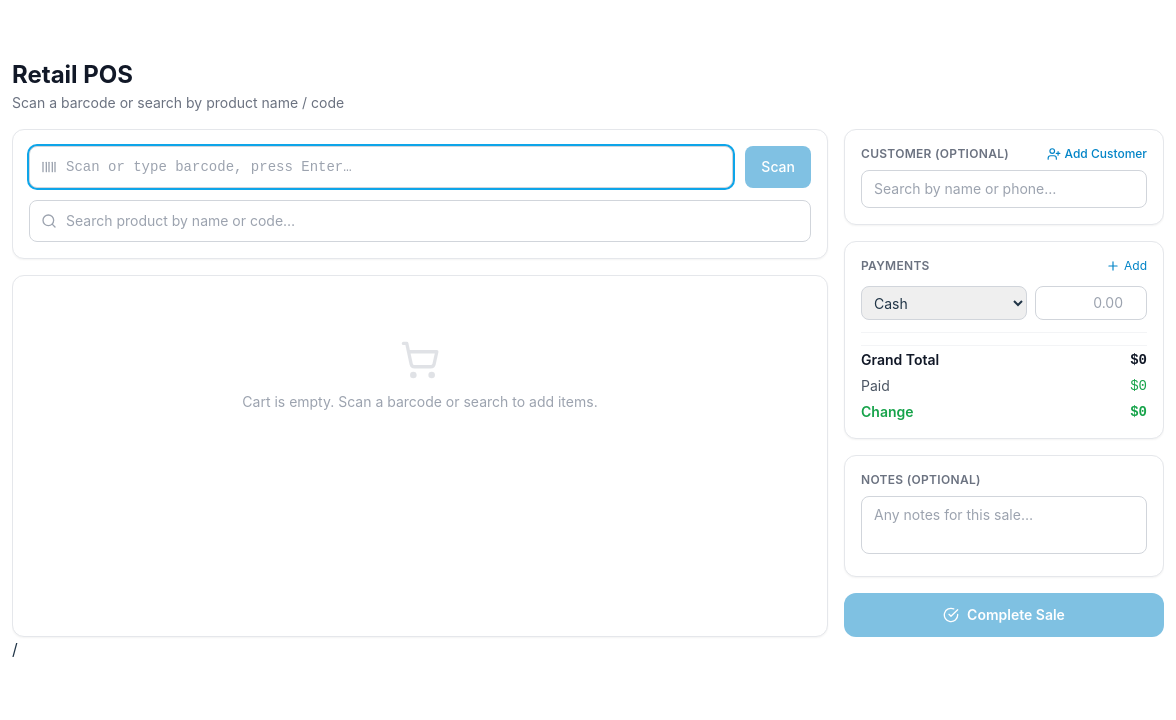
Scenario: Retail POS › requires a customer before leaving a balance due
In the field labelled "barcode": coordinates (381, 167) [29,146,733,188], type "0828156987886"
Then press Enter
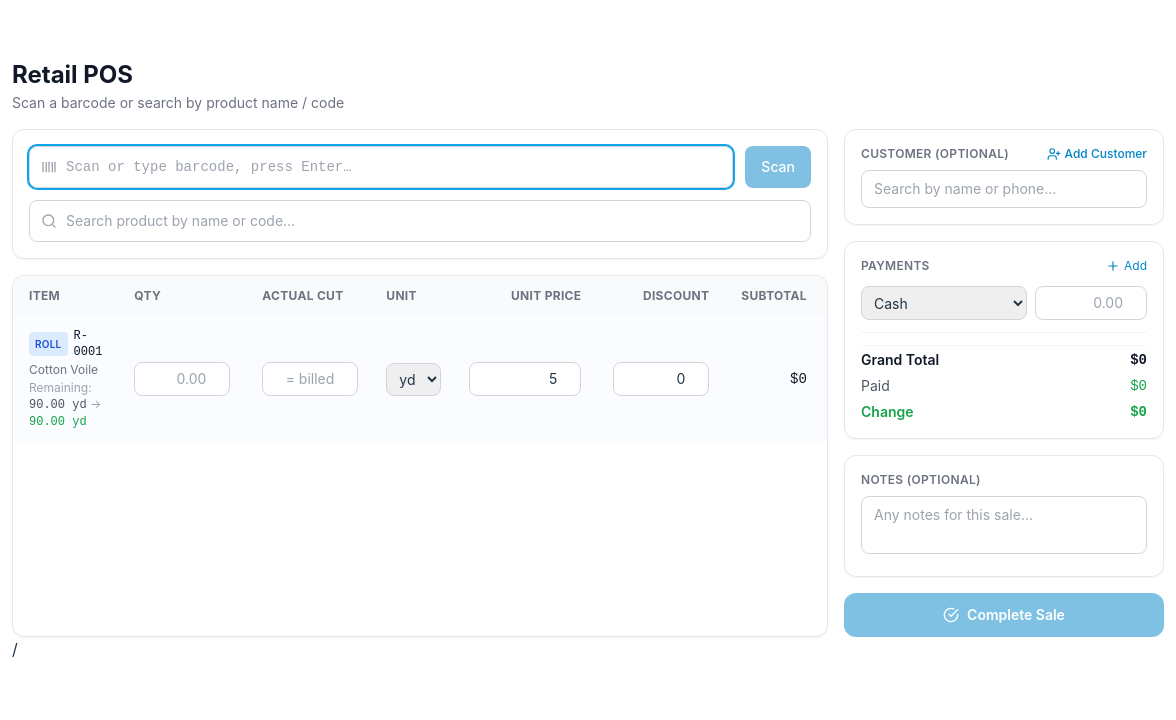
Now the text "R-0001" is shown, box [74,328,102,360]
In the number field with placeholder "0.00" below "Roll": coordinates (182, 379) [134,362,230,396], type "3"
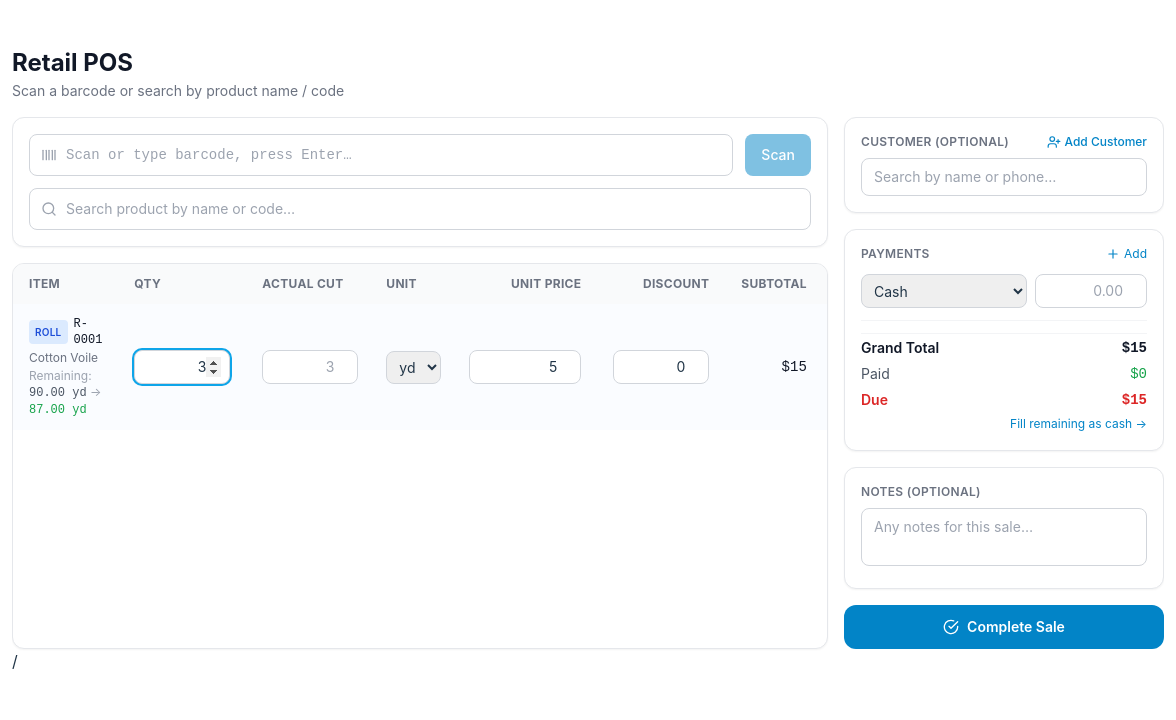
In the number field named "Payment 1 amount": coordinates (1091, 291) [1035,274,1147,308], type "10"
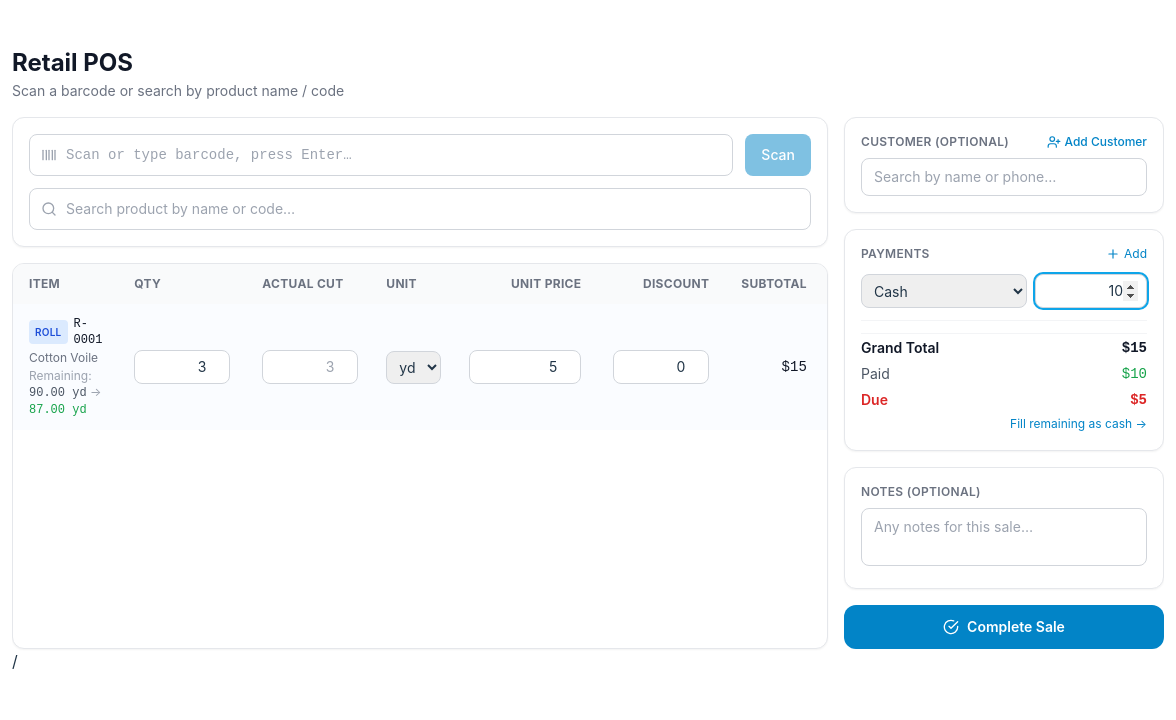
Click the button "Complete Sale": coordinates (1004, 627) [844,605,1164,649]
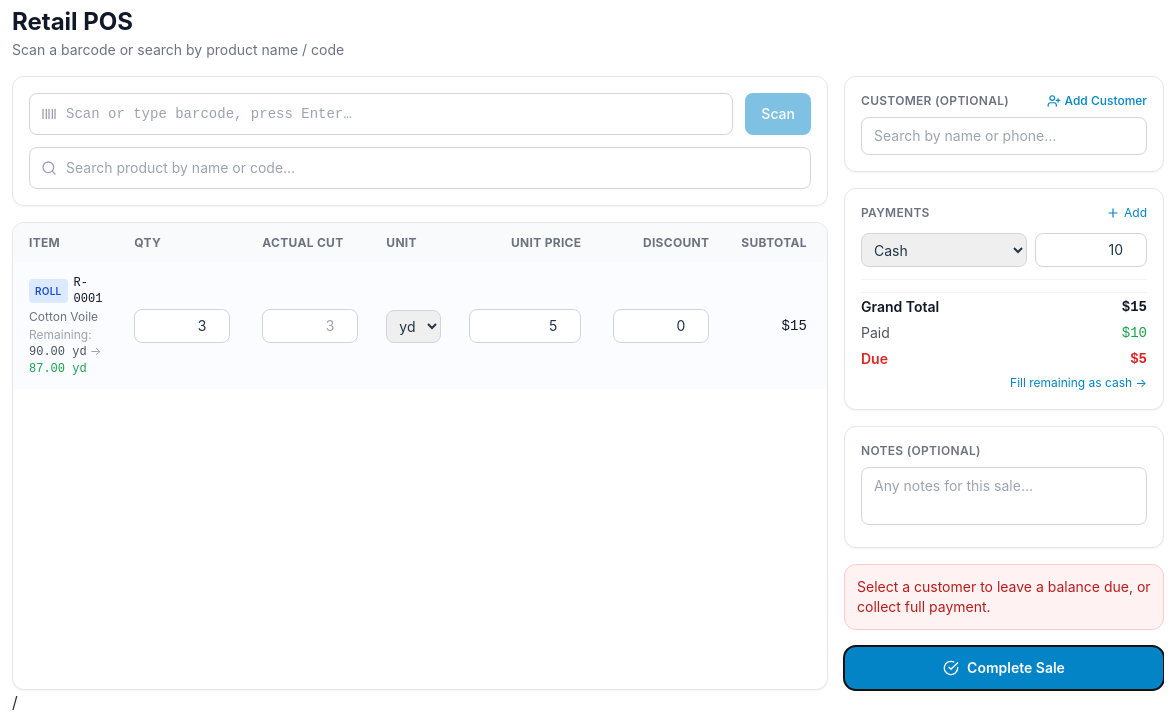
Now the text "Select a customer to leave a balance due" is shown, box [857,578,1151,615]
